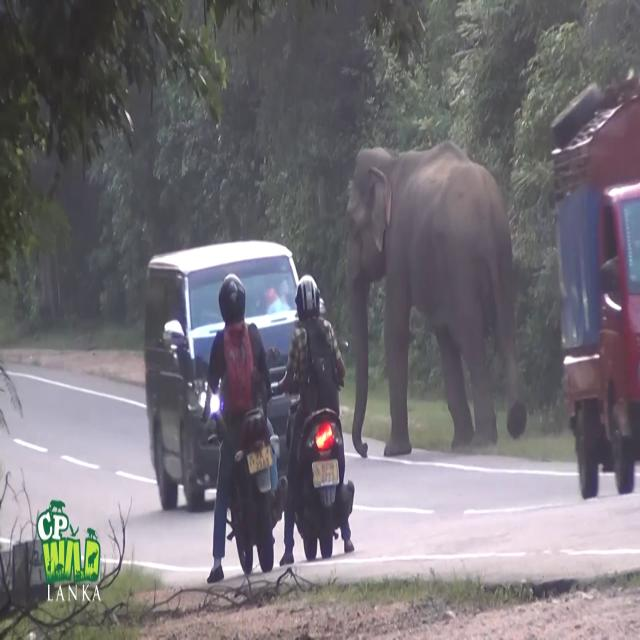Elephant: (345, 139, 527, 458)
person: (202, 273, 288, 584), (272, 274, 355, 566)
